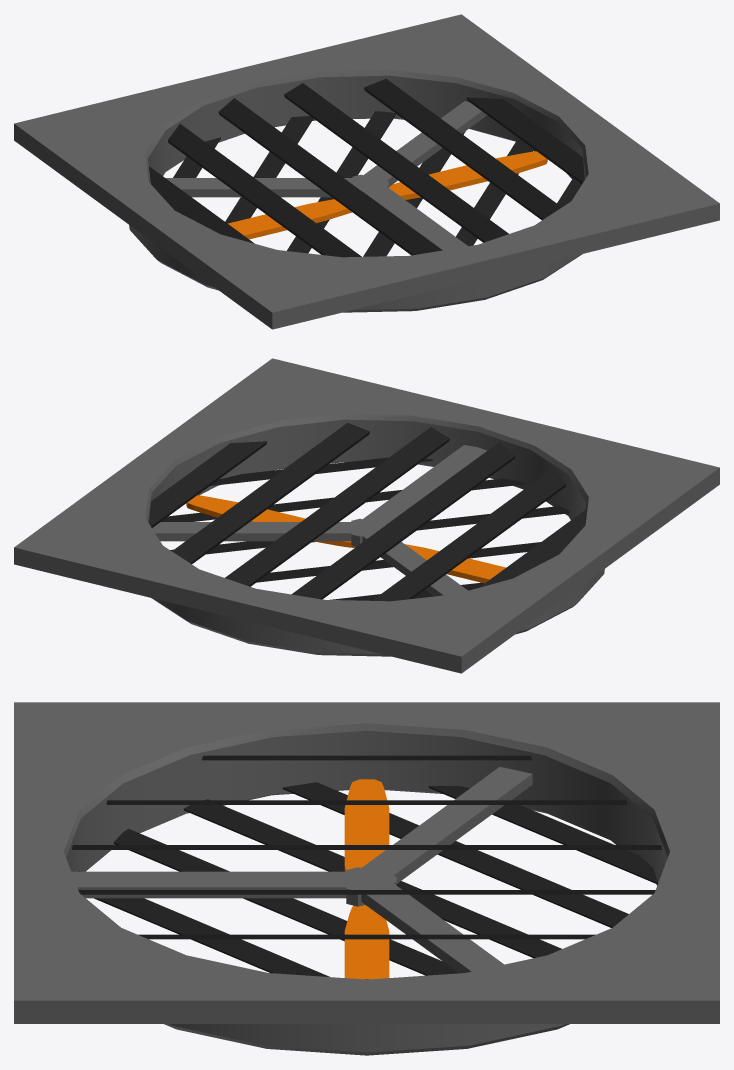
File: Ceiling_Vent_Big_1.fbx
3 renders of one model, top to bottom at view 1: azimuth 30°, elevation 25°; view 2: azimuth 150°, elevation 25°; view 3: azimuth 270°, elevation 25°, orthographic. The views are drawn at different scales.
Visible parts, largest first — view 1: Ceiling_VentBase_Big_1, Ceiling_VentFan_Big_1; view 2: Ceiling_VentBase_Big_1, Ceiling_VentFan_Big_1; view 3: Ceiling_VentBase_Big_1, Ceiling_VentFan_Big_1.
Boxes of the visible parts, x1,y1,x2,y2 form: Ceiling_VentBase_Big_1: (14, 14, 719, 329); Ceiling_VentFan_Big_1: (228, 151, 547, 239); Ceiling_VentBase_Big_1: (14, 358, 719, 673); Ceiling_VentFan_Big_1: (186, 495, 505, 583); Ceiling_VentBase_Big_1: (14, 702, 719, 1055); Ceiling_VentFan_Big_1: (344, 779, 389, 979).
Bounding box in the file's own units: 400 × 42.15 × 400.
